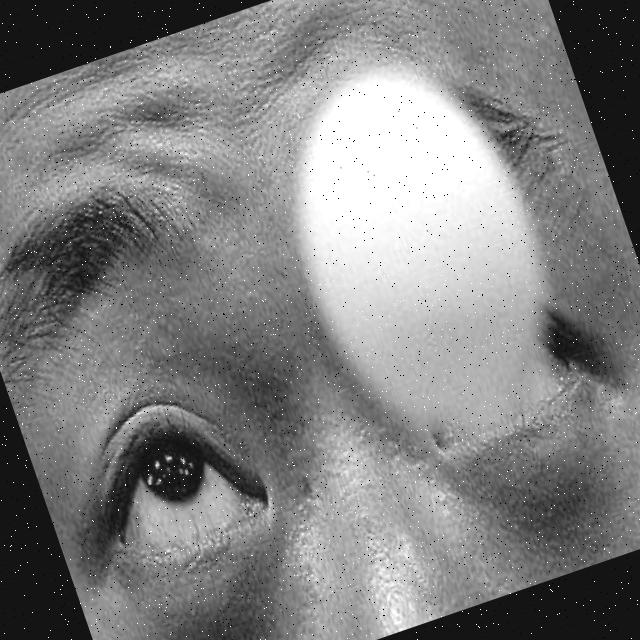ping-pong-ball: (239, 29, 593, 466)
